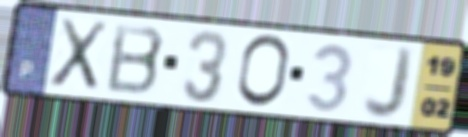3: (180, 26, 230, 106), (305, 40, 356, 114)
B: (103, 21, 168, 97)
J: (360, 43, 418, 123)
O: (234, 32, 293, 110)
X: (45, 16, 111, 94)
